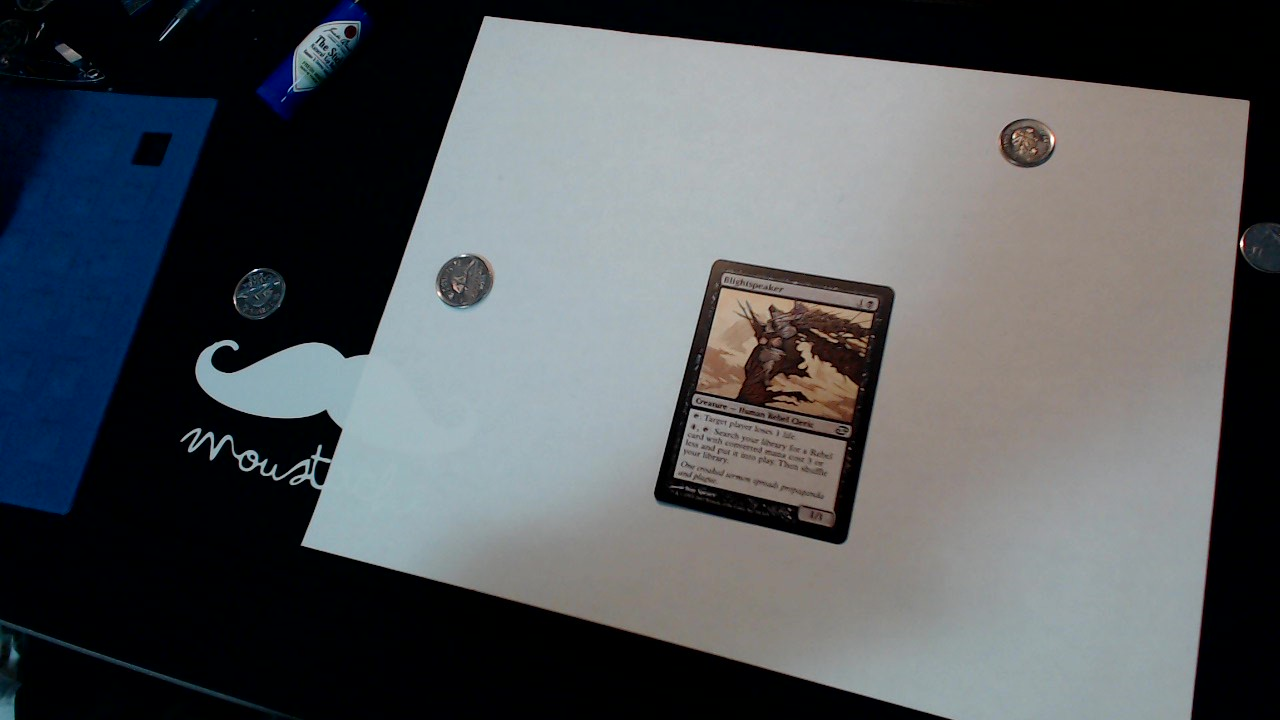MTG Card: (646, 250, 902, 552)
